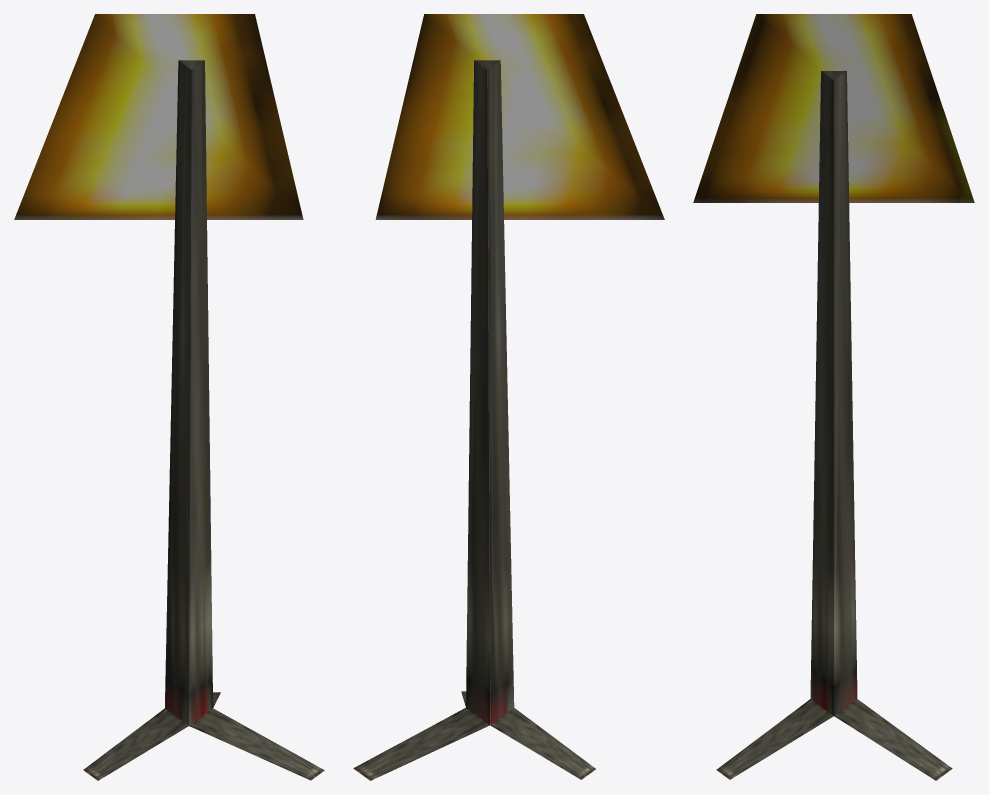
File: Stehlampe [Messing]_1364.glb
3 renders of one model, left to right at view 1: azimuth 30°, elevation 25°; view 2: azimuth 150°, elevation 25°; view 3: azimuth 270°, elevation 25°, orthographic. The views are drawn at different scales.
Visible parts, largest first — view 1: pCylinderShape39, pCylinderShape37, pPlaneShape31, pPlaneShape29; view 2: pCylinderShape39, pCylinderShape37, pPlaneShape30, pPlaneShape29; view 3: pCylinderShape39, pCylinderShape37, pPlaneShape30, pPlaneShape31.
Part boxes in pixels (x1,y1,x2,y2): pCylinderShape39: [14, 14, 303, 219]; pCylinderShape37: [165, 60, 212, 725]; pPlaneShape31: [189, 708, 324, 780]; pPlaneShape29: [83, 708, 188, 780]; pCylinderShape39: [375, 14, 664, 219]; pCylinderShape37: [466, 60, 514, 725]; pPlaneShape30: [353, 708, 489, 780]; pPlaneShape29: [490, 708, 595, 779]; pCylinderShape39: [693, 14, 974, 202]; pCylinderShape37: [810, 71, 857, 715]; pPlaneShape30: [834, 699, 952, 780]; pPlaneShape31: [716, 699, 833, 779].
Size of the model in its own units: 0.091 by 0.2888 by 0.1051.
5 materials, 5 textured.
